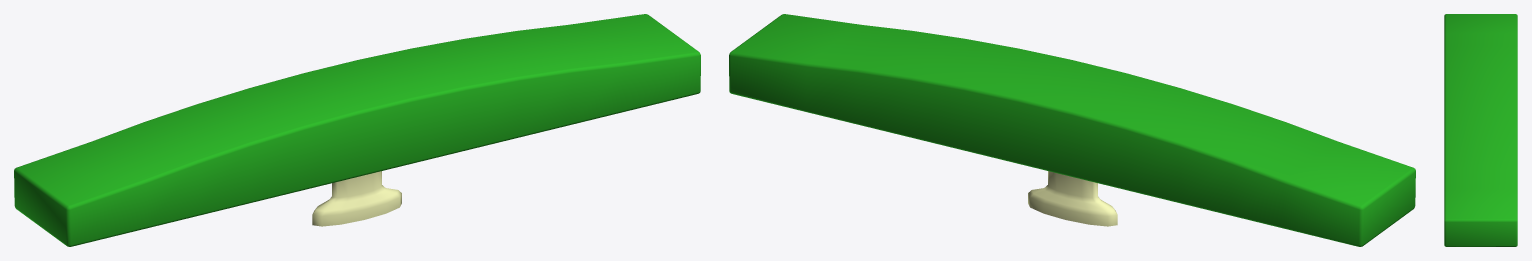
File: PaddleGreen.fbx
3 views of the same model, side by side, from view 1: azimuth 30°, elevation 25°; view 2: azimuth 150°, elevation 25°; view 3: azimuth 270°, elevation 25° (orthographic). The views are drawn at different scales.
Visible parts, largest first — view 1: paddle.002, paddleholder.002; view 2: paddle.002, paddleholder.002; view 3: paddle.002.
Part boxes in pixels (x1,y1,x2,y2): paddle.002: [14, 14, 700, 246]; paddleholder.002: [312, 171, 401, 226]; paddle.002: [729, 14, 1415, 246]; paddleholder.002: [1028, 171, 1117, 226]; paddle.002: [1444, 14, 1517, 246].
Bounding box in the file's own units: 42.8 × 8.29 × 6.43.
